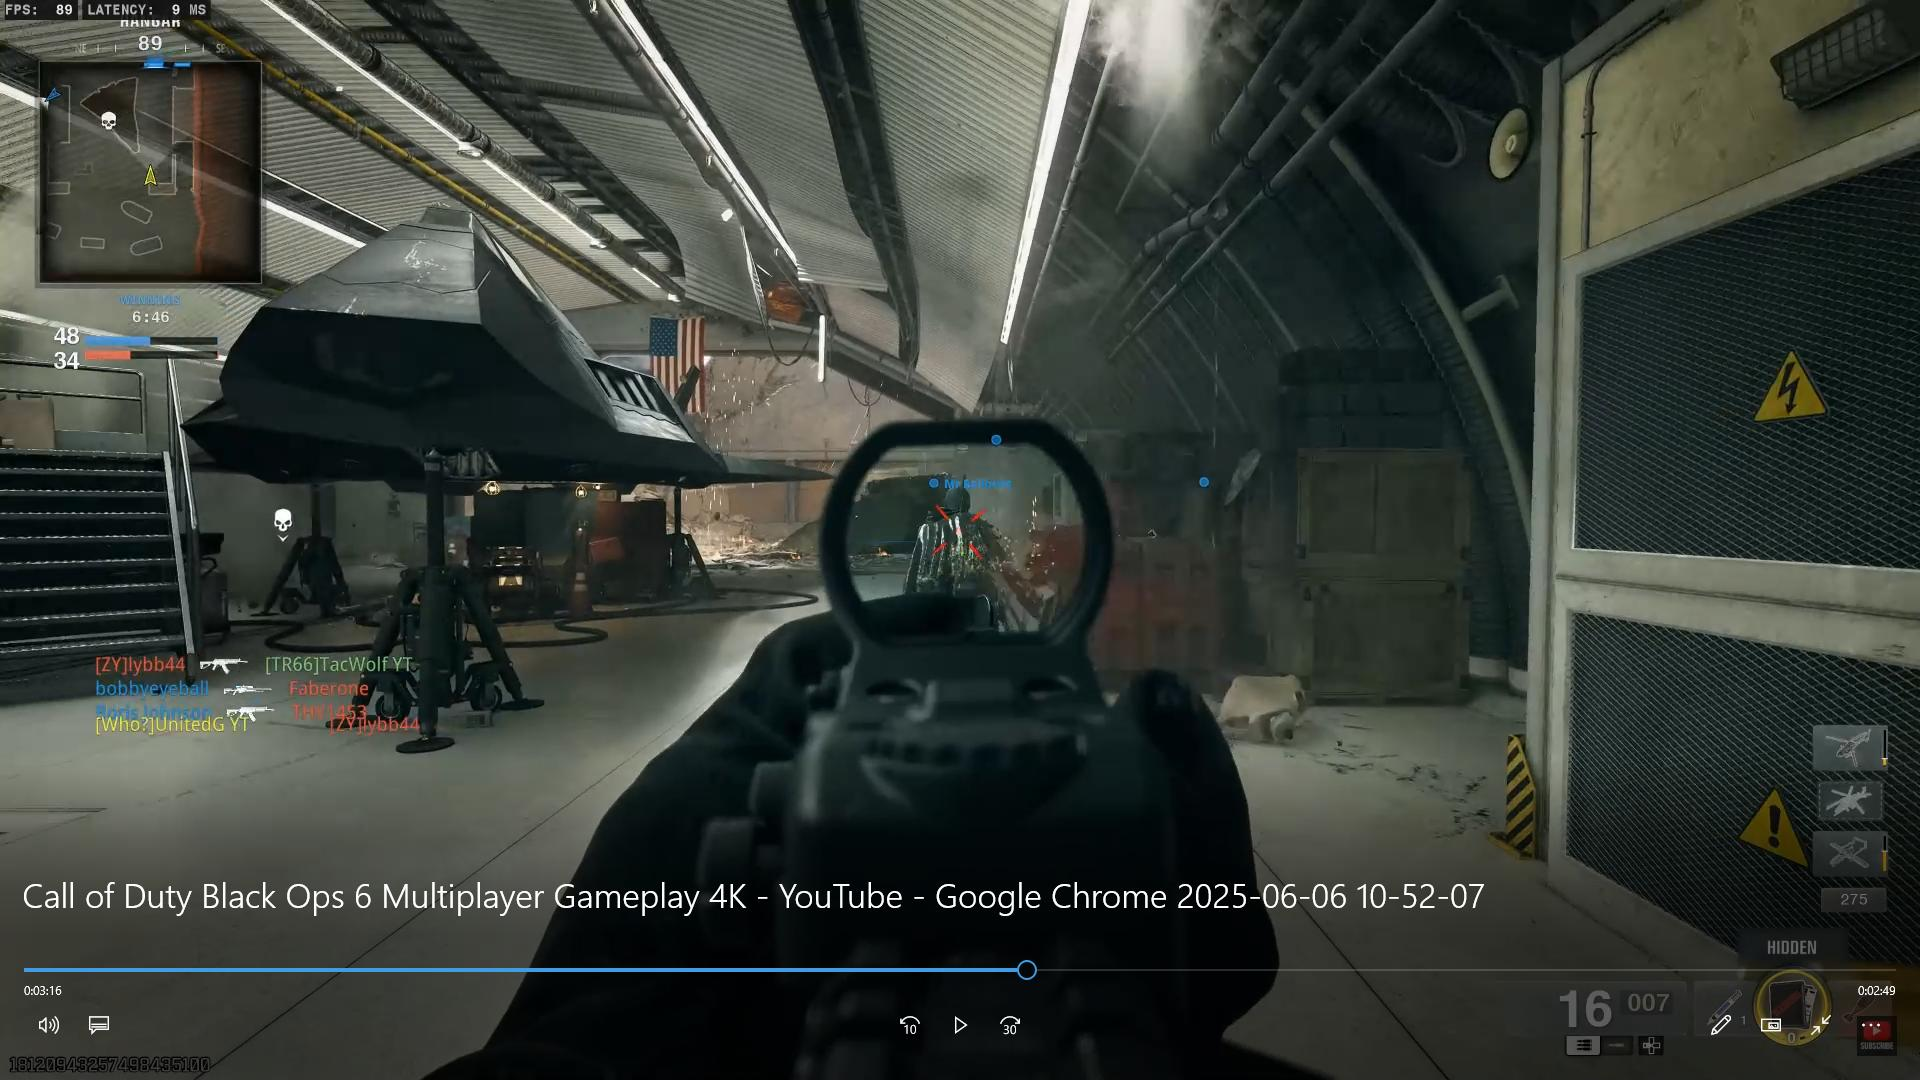Enemy: (923, 487, 1009, 599)
